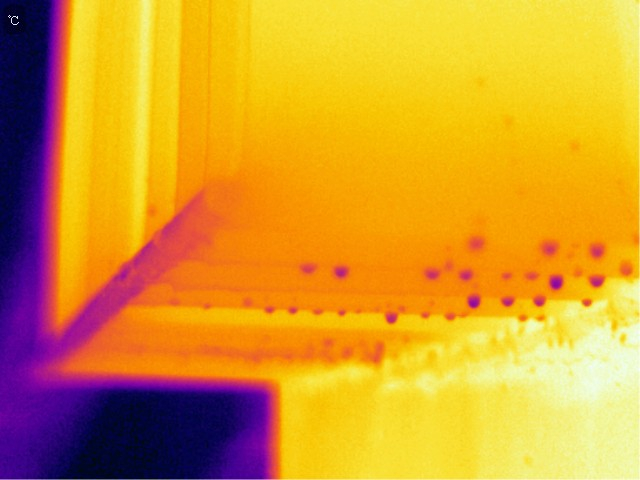Water: (284, 301, 302, 322), (587, 242, 608, 258), (527, 267, 543, 288), (297, 263, 322, 276), (332, 301, 346, 323), (464, 293, 483, 309), (423, 265, 440, 282), (467, 237, 485, 253), (547, 272, 562, 290), (446, 307, 461, 325), (310, 302, 323, 322), (618, 261, 632, 279), (335, 263, 349, 280), (542, 240, 559, 254), (517, 315, 551, 322), (384, 311, 402, 324), (589, 275, 607, 288), (417, 311, 434, 324), (459, 268, 473, 283), (498, 268, 511, 282), (579, 299, 595, 309), (502, 295, 515, 306), (263, 306, 274, 318), (534, 296, 546, 307)
